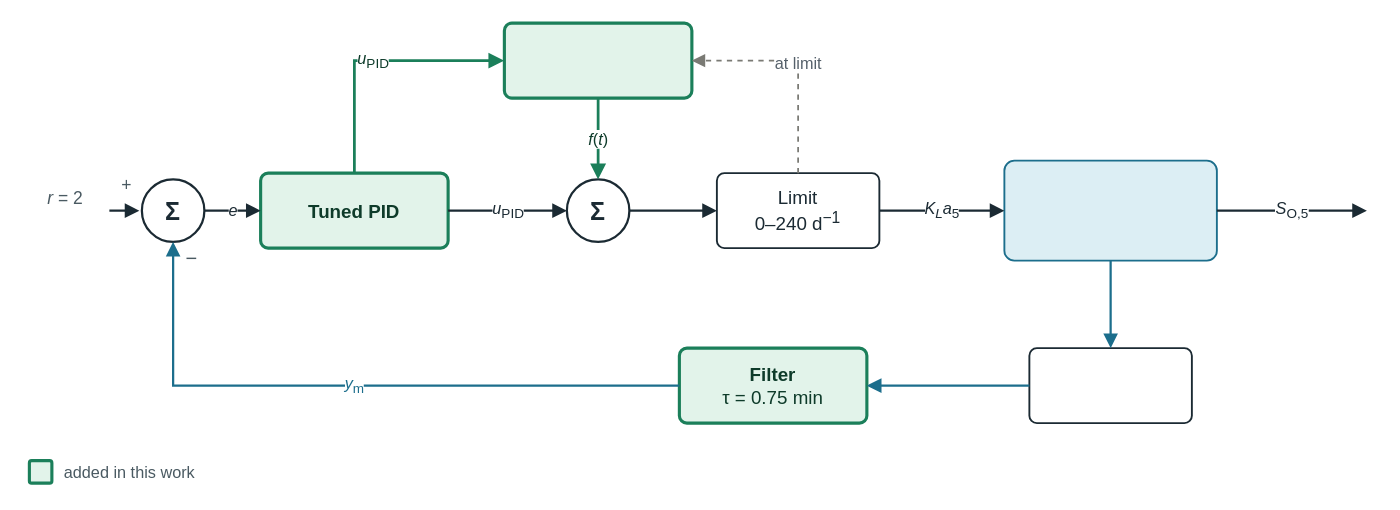
Image size: 1400x510. Some labels were removed from this diagram. Each missing label, with the centre of its shape:
BSM1 tank 5: the point at 1110,210
Daily ILC: the point at 597,60
Sensor delay + noise: the point at 1110,385
